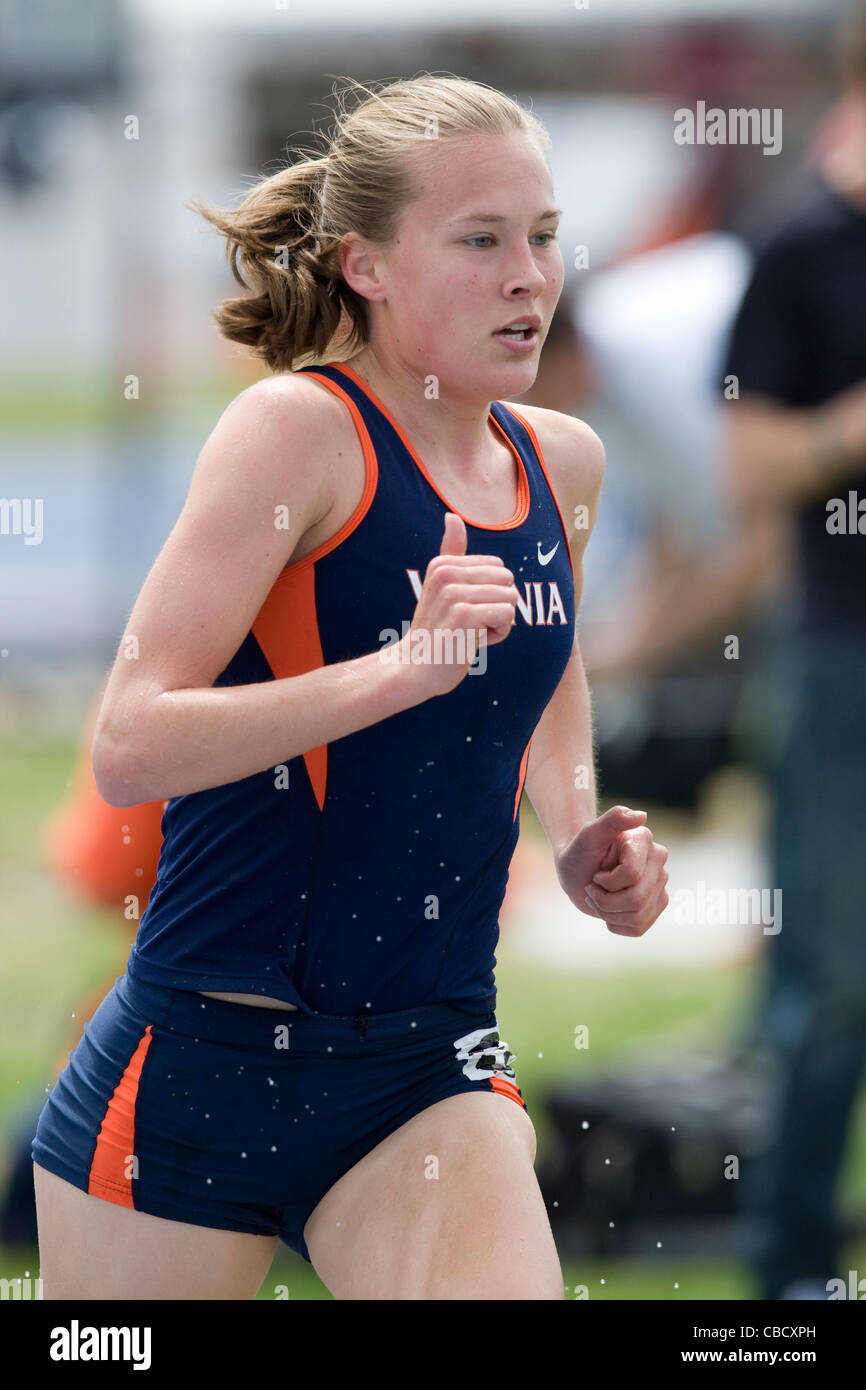runner: (34, 75, 686, 1321)
